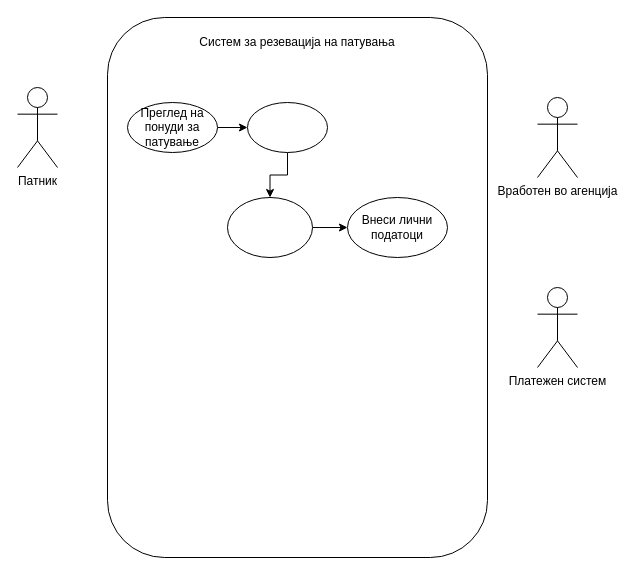
The diagram is 635 pixels wide and 575 high, and some of its shapes have lost their labels. Here are the shapes that lost their labels. From the top down, the centre of each, then its label:
(x=287, y=127): Избери туристичка агенција
(x=269, y=227): Резервирај аражман
